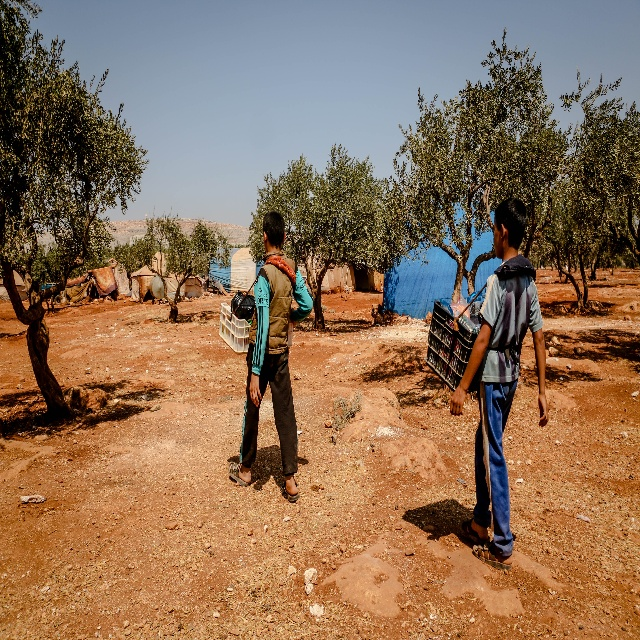Sin_guantes: (449, 384, 466, 416), (249, 372, 262, 408), (538, 391, 549, 428)
